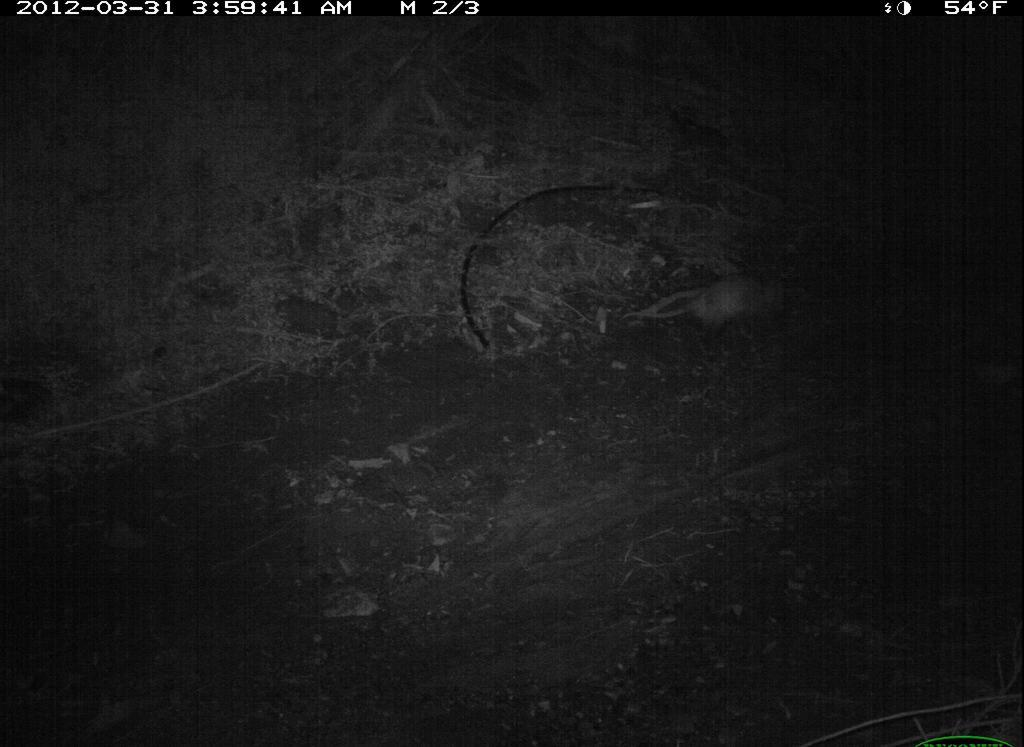opossum: (623, 258, 822, 349)
